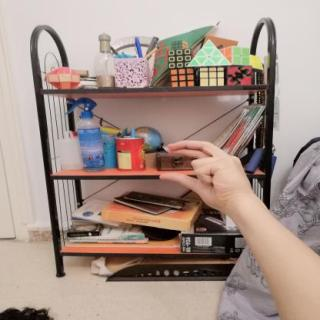DHELL: (152, 137, 255, 216)
